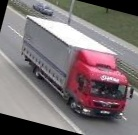truck: (6, 14, 138, 127)
